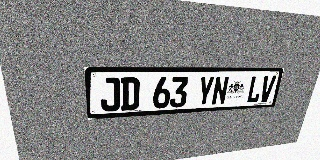3: (170, 77, 189, 108)
6: (153, 77, 172, 109)
D: (121, 77, 140, 111)
J: (100, 77, 120, 112)
L: (246, 76, 264, 103)
N: (211, 76, 230, 105)
V: (258, 76, 276, 102)
Y: (196, 76, 215, 106)
